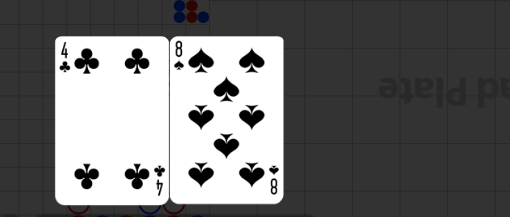4C: (151, 163, 166, 198)
8S: (267, 162, 280, 196)
